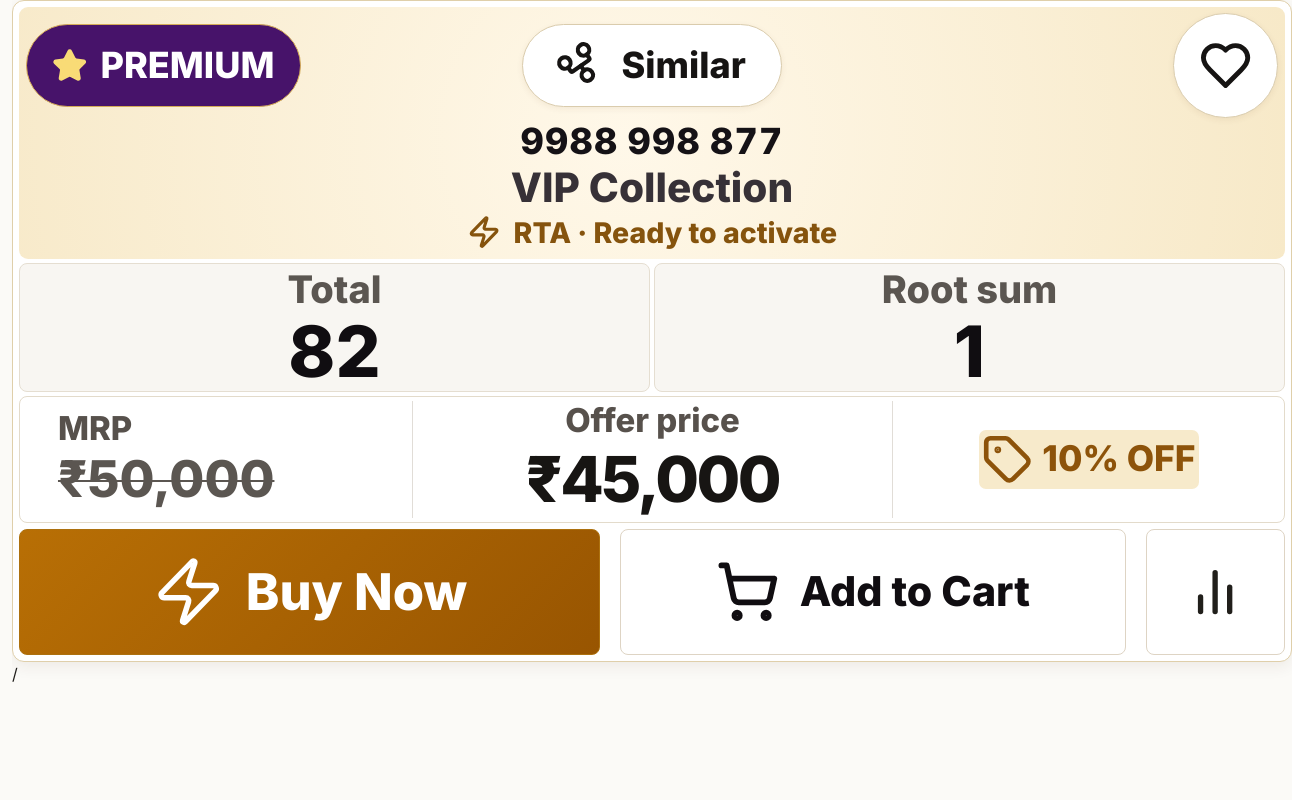
Scenario: reference number card › keeps the RTA purchase destination
Click the button "Buy Now": (310, 592) [19,529,600,655]
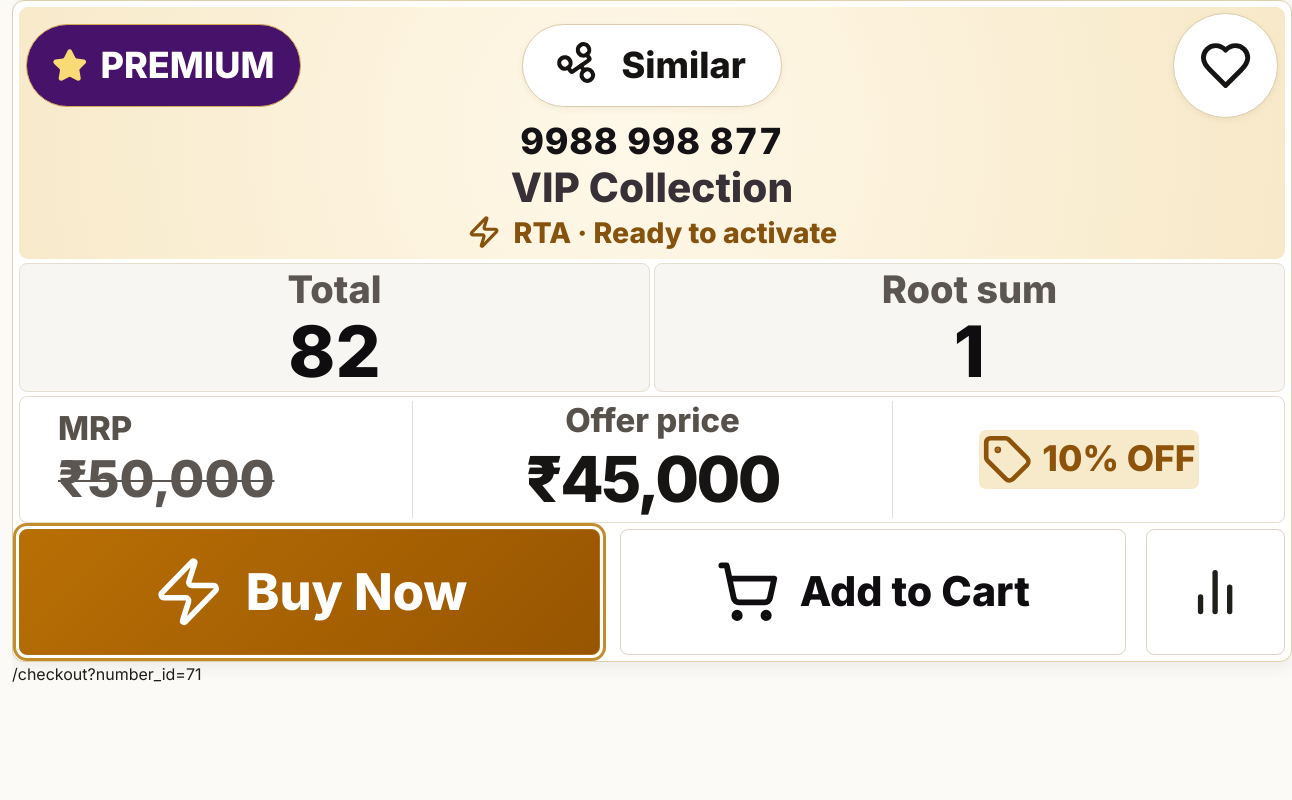
Expected: the text named "Location" reads "/checkout?number_id=71", [12,664,202,684]
